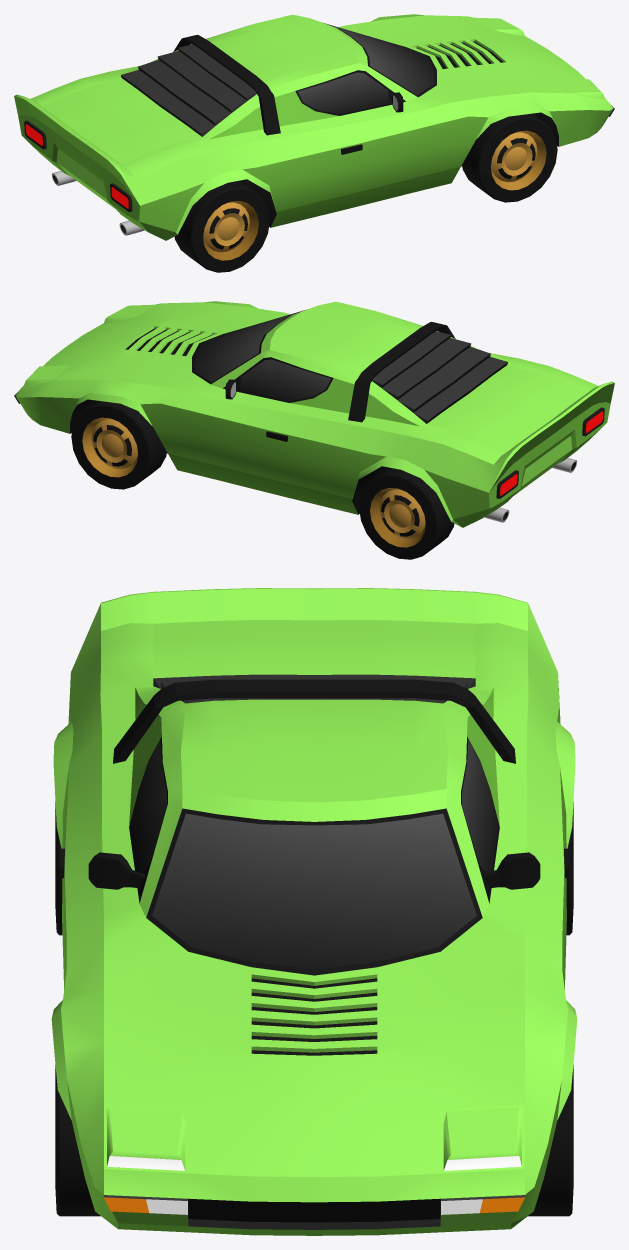
The model's file is Car_246.glb.
The picture shows the model from 3 angles, top to bottom: view 1: azimuth 30°, elevation 25°; view 2: azimuth 150°, elevation 25°; view 3: azimuth 270°, elevation 25°; orthographic projection. The views are drawn at different scales.
Visible parts, largest first — view 1: Car_246, wheel_1_Car_246_Wheel_1R, wheel_3_Car_246_Wheel_2R; view 2: Car_246, wheel_0_Car_246_Wheel_1L, wheel_2_Car_246_Wheel_2L; view 3: Car_246, wheel_0_Car_246_Wheel_1L, wheel_1_Car_246_Wheel_1R.
Part boxes in pixels (x1=…): Car_246: x1=14, y1=14, x2=614, y2=240; wheel_1_Car_246_Wheel_1R: x1=462, y1=113, x2=557, y2=202; wheel_3_Car_246_Wheel_2R: x1=174, y1=180, x2=269, y2=272; Car_246: x1=14, y1=301, x2=614, y2=527; wheel_0_Car_246_Wheel_1L: x1=71, y1=400, x2=166, y2=489; wheel_2_Car_246_Wheel_2L: x1=359, y1=467, x2=454, y2=559; Car_246: x1=51, y1=588, x2=577, y2=1235; wheel_0_Car_246_Wheel_1L: x1=528, y1=1065, x2=573, y2=1216; wheel_1_Car_246_Wheel_1R: x1=55, y1=1065, x2=100, y2=1216.
Size of the model in its own units: 4.19 by 1.19 by 1.89.
Materials: 2 (2 with a texture image).
